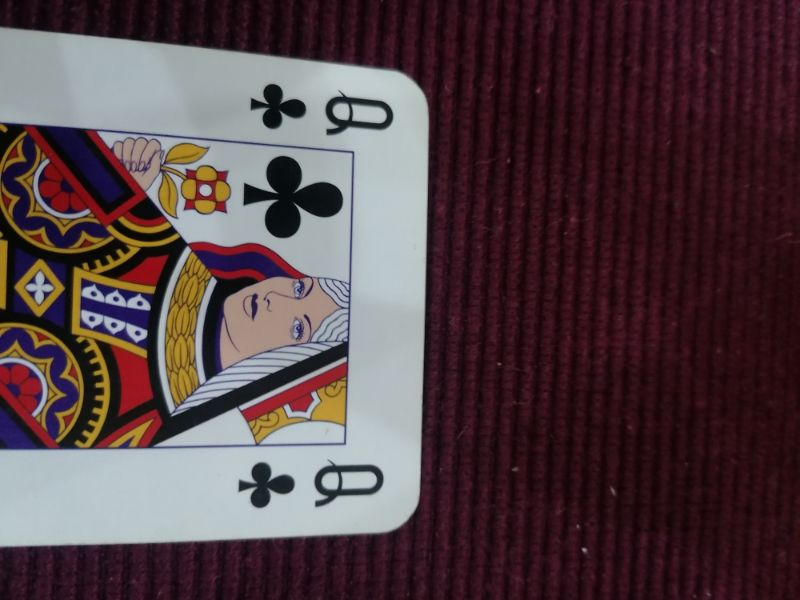Qc: (246, 79, 396, 142), (237, 455, 388, 508)
